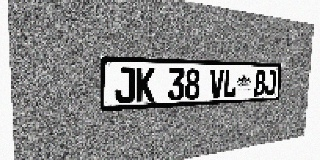3: (168, 68, 185, 101)
8: (185, 69, 201, 100)
B: (254, 70, 266, 96)
J: (115, 67, 135, 103), (265, 70, 276, 95)
K: (136, 68, 155, 102)
L: (223, 69, 237, 98)
V: (210, 69, 224, 98)
